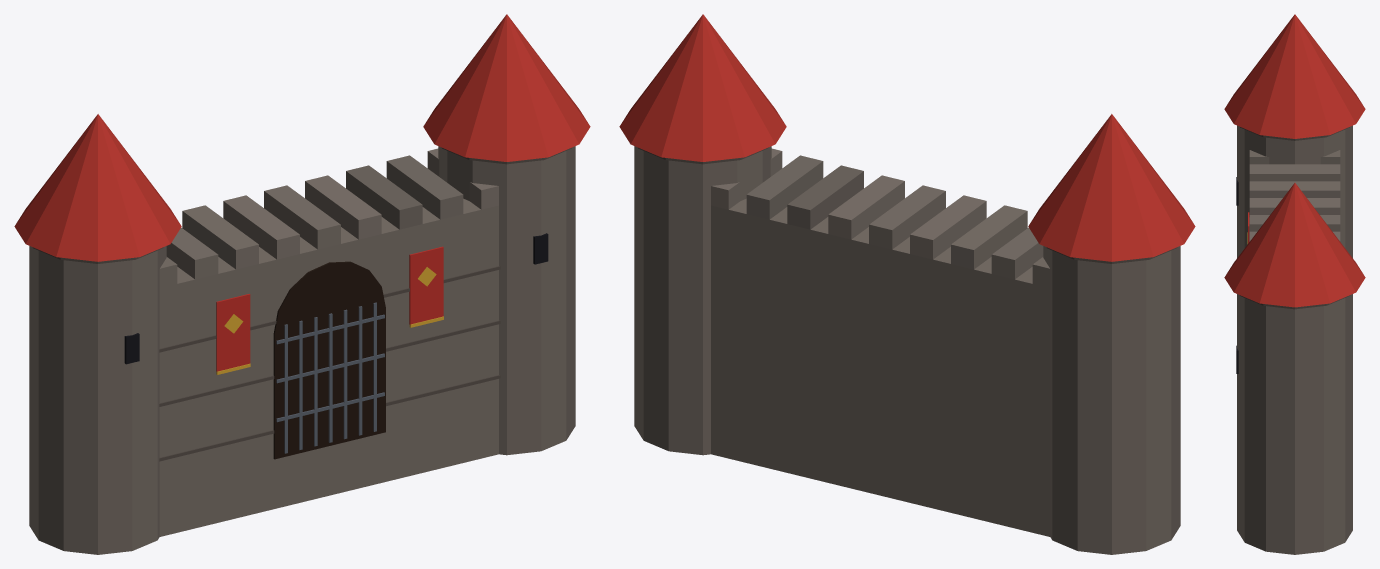
The model's file is castle_gate.fbx.
The picture shows the model from 3 angles, left to right: view 1: azimuth 30°, elevation 25°; view 2: azimuth 150°, elevation 25°; view 3: azimuth 270°, elevation 25°; orthographic projection. The views are drawn at different scales.
Visible parts, largest first — view 1: castle_gate_Main; view 2: castle_gate_Main; view 3: castle_gate_Main.
Part boxes in pixels (x1,y1,x2,y2): castle_gate_Main: [14, 14, 590, 554]; castle_gate_Main: [619, 14, 1195, 554]; castle_gate_Main: [1224, 14, 1365, 554].
Bounding box in the file's own units: 14.9 × 10.6 × 3.9.
